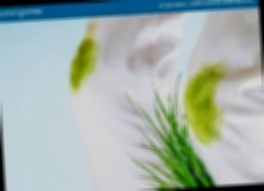earth: (185, 80, 223, 140), (70, 46, 92, 82)
